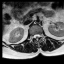CCS_normal: (35, 31, 38, 42)
LFS_normal: (40, 30, 42, 39)
LLS_normal: (38, 31, 40, 40)
RFS_normal: (31, 32, 33, 41)
RLS_normal: (33, 32, 35, 40)
